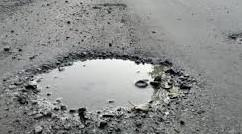pothole: (9, 51, 199, 126), (88, 2, 127, 13), (224, 28, 242, 47)
